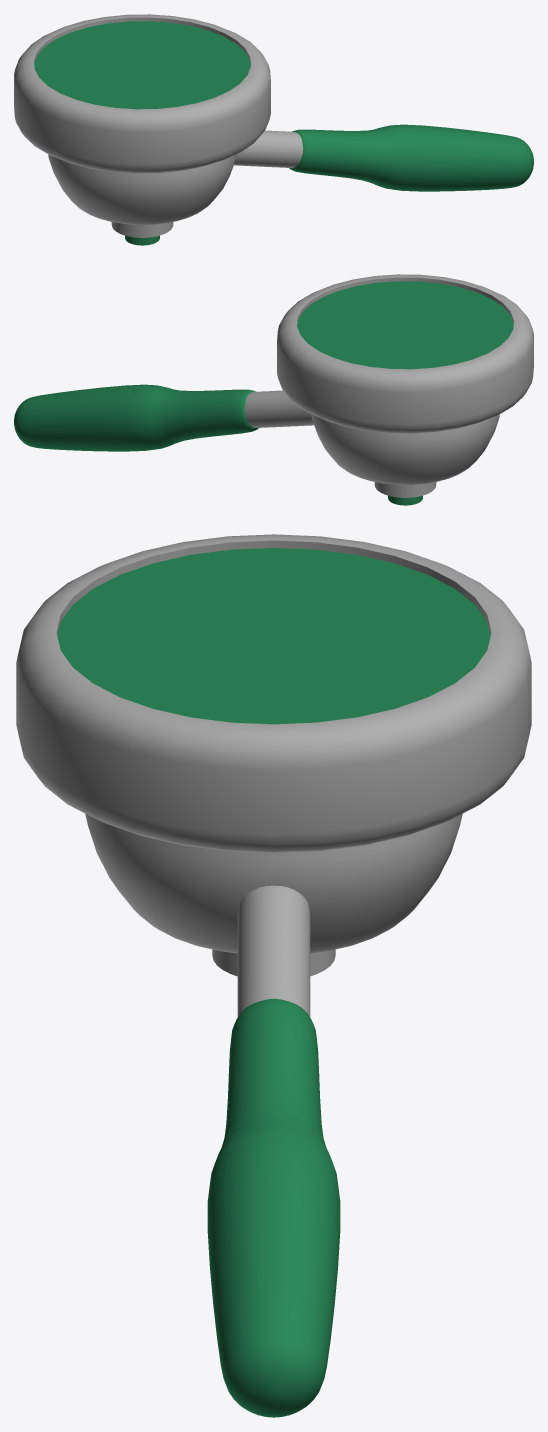
File: Espresso.fbx
3 renders of one model, top to bottom at view 1: azimuth 30°, elevation 25°; view 2: azimuth 150°, elevation 25°; view 3: azimuth 270°, elevation 25°, orthographic. The views are drawn at different scales.
Visible parts, largest first — view 1: Espresso; view 2: Espresso; view 3: Espresso.
Part boxes in pixels (x1,y1,x2,y2): Espresso: [14, 14, 533, 245]; Espresso: [14, 274, 533, 505]; Espresso: [16, 534, 531, 1417].
Bounding box in the file's own units: 50.06 × 20.28 × 22.37.
